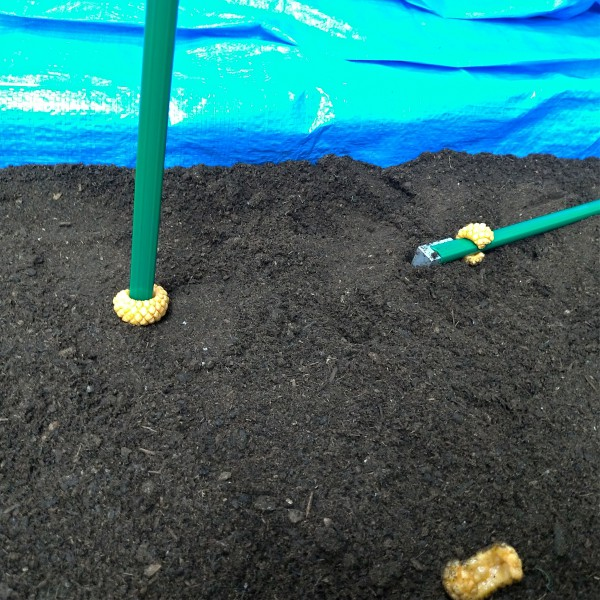eggs: (434, 536, 536, 600), (108, 278, 177, 329), (445, 215, 501, 270)
